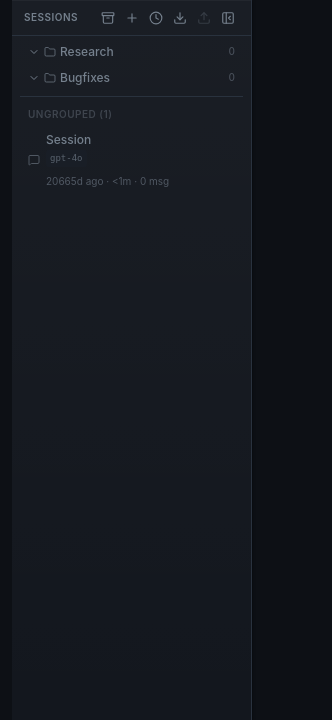
Test: Session groups — context menu › shows "Move to group" in session context menu when groups exist
Right-click the button "Session gpt-4o 20665d ago · <1m · 0 msg": (132, 160) [20, 126, 243, 194]
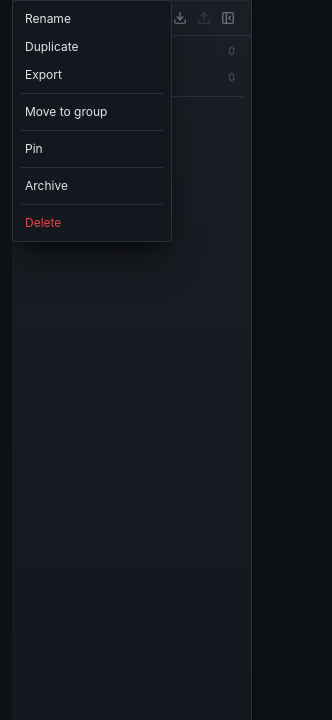
Now the button "Move to group" is shown, box [13, 98, 171, 126]
